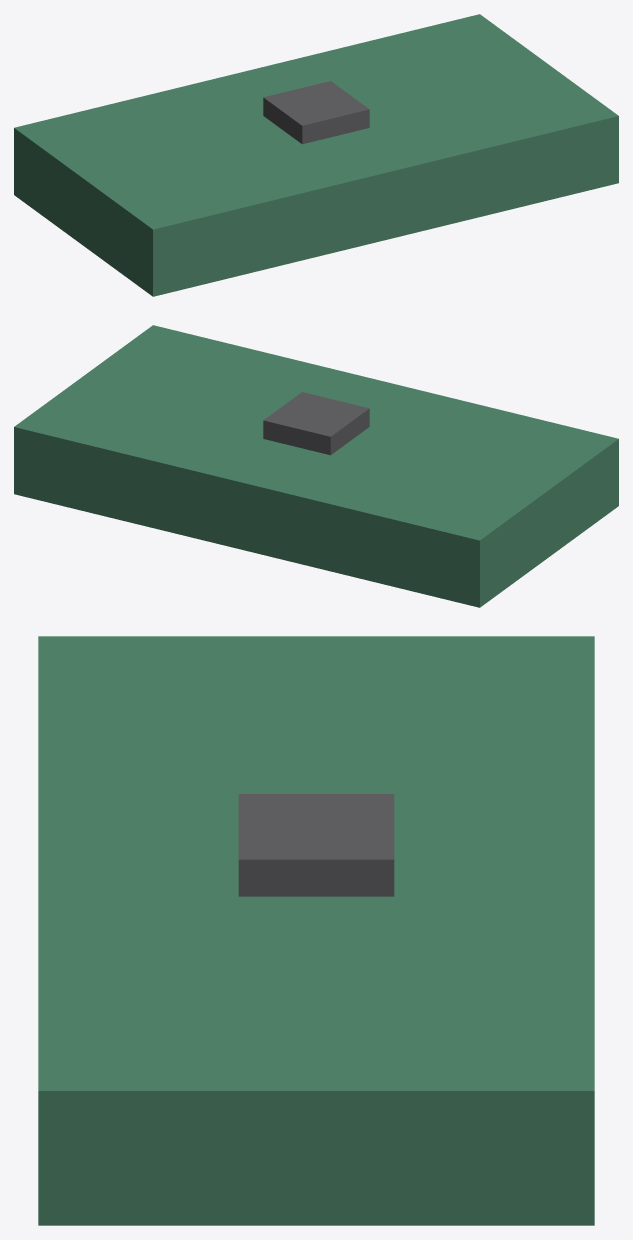
The model's file is nrf24l01.glb.
3 views of the same model, one above another, from view 1: azimuth 30°, elevation 25°; view 2: azimuth 150°, elevation 25°; view 3: azimuth 270°, elevation 25° (orthographic). The views are drawn at different scales.
Parts seen in each view (by area): view 1: nrf24l01-pcb, nrf24l01-ic; view 2: nrf24l01-pcb, nrf24l01-ic; view 3: nrf24l01-pcb, nrf24l01-ic.
Part boxes in pixels (<box>): nrf24l01-pcb: <box>14,14,618,296</box>; nrf24l01-ic: <box>263,81,369,144</box>; nrf24l01-pcb: <box>14,325,618,607</box>; nrf24l01-ic: <box>263,392,369,455</box>; nrf24l01-pcb: <box>38,636,594,1225</box>; nrf24l01-ic: <box>238,794,394,896</box>.
Size of the model in its own units: 0.029 by 0.0051 by 0.015.
